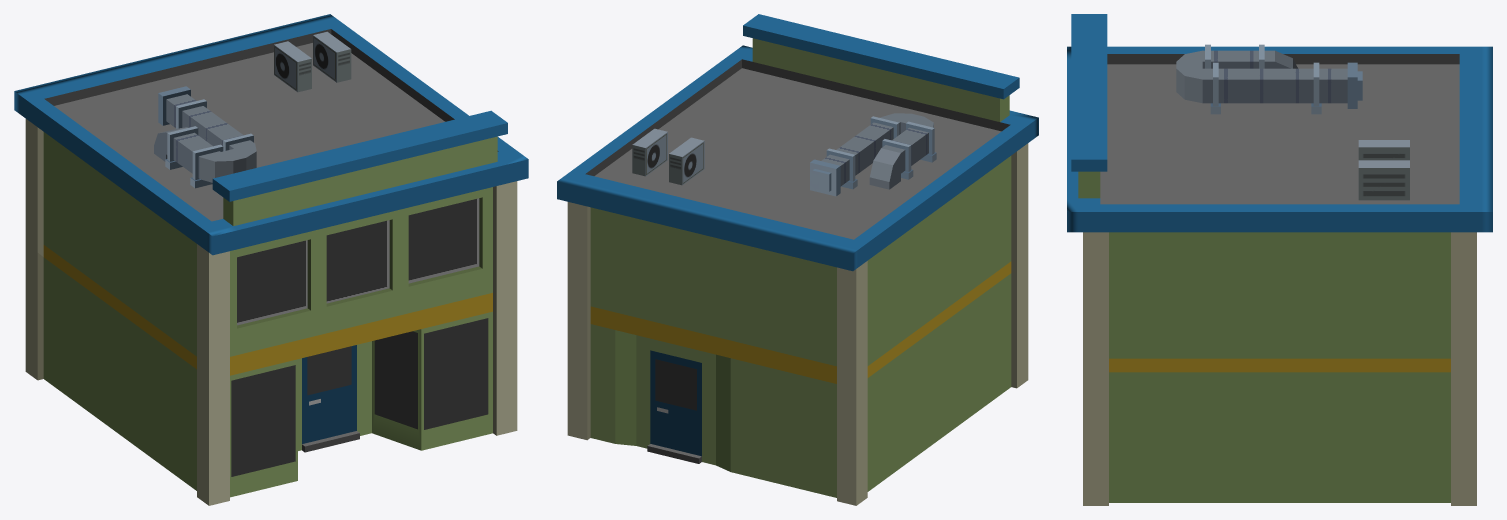
Rendered from shop4.obj.
3 views of the same model, side by side, from view 1: azimuth 30°, elevation 25°; view 2: azimuth 150°, elevation 25°; view 3: azimuth 270°, elevation 25° (orthographic). The views are drawn at different scales.
Visible parts, largest first — view 1: ST_Building_Shop_04_Untitled; view 2: ST_Building_Shop_04_Untitled; view 3: ST_Building_Shop_04_Untitled.
Boxes of the visible parts, x1=… form: ST_Building_Shop_04_Untitled: x1=14, y1=14, x2=528, y2=505; ST_Building_Shop_04_Untitled: x1=557, y1=14, x2=1038, y2=505; ST_Building_Shop_04_Untitled: x1=1067, y1=14, x2=1492, y2=505.
Bounding box in the file's own units: 10.92 × 10.41 × 11.88.
